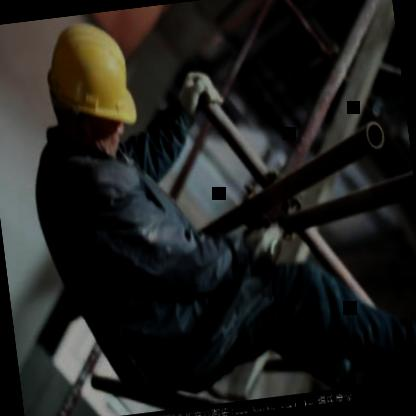helmet: (32, 8, 152, 173)
